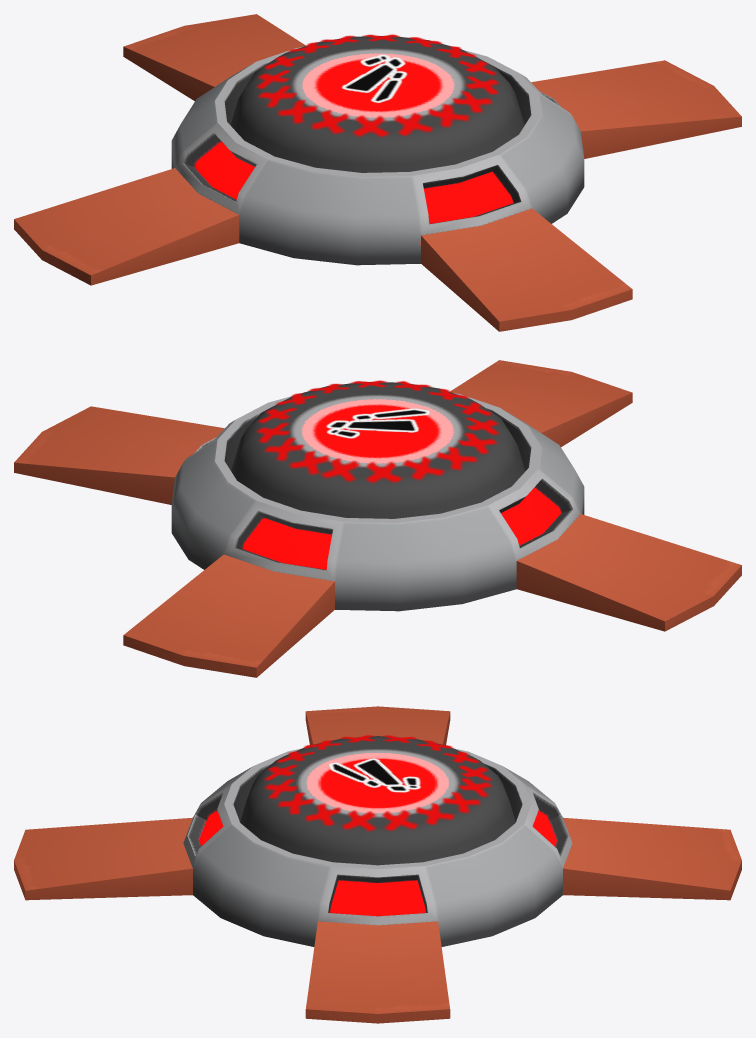
File: Mine1.glb
The picture shows the model from 3 angles, top to bottom: view 1: azimuth 30°, elevation 25°; view 2: azimuth 150°, elevation 25°; view 3: azimuth 270°, elevation 25°; orthographic projection. The views are drawn at different scales.
Parts seen in each view (by area): view 1: Mine; view 2: Mine; view 3: Mine.
Boxes of the visible parts, left/top/right/bottom form: Mine: left=14, top=14, right=741, bottom=331; Mine: left=14, top=360, right=741, bottom=677; Mine: left=14, top=706, right=741, bottom=1023.
Size of the model in its own units: 0.9622 by 0.1372 by 0.9622.
2 materials, 2 textured.
